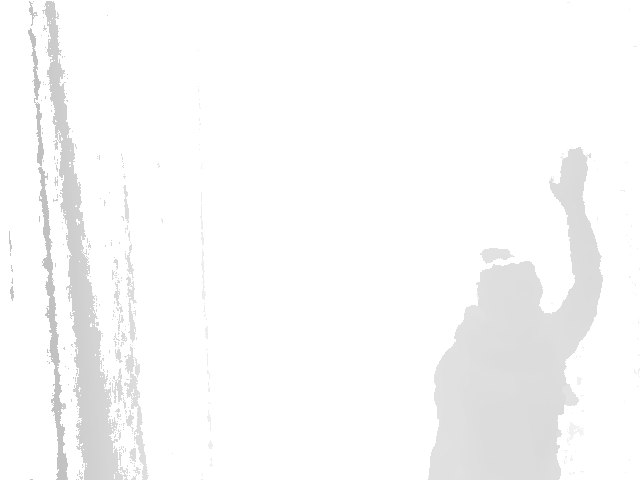hand: (547, 145, 590, 205)
head: (474, 246, 545, 329)
person: (424, 145, 605, 480)
